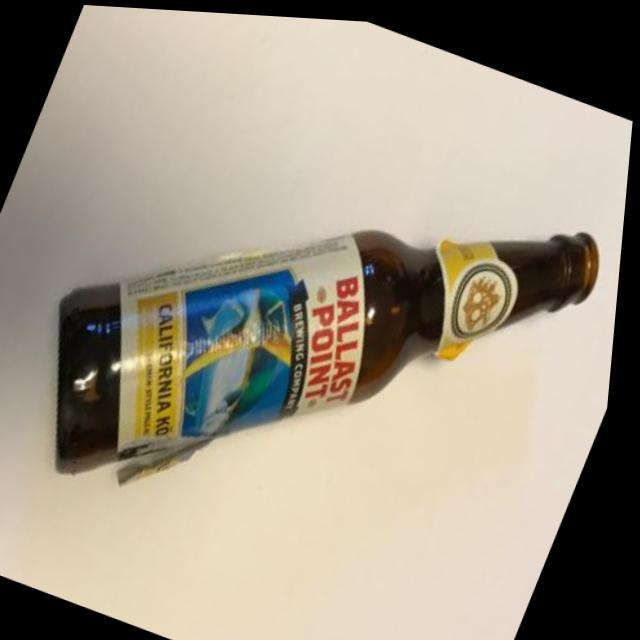glass: (0, 5, 640, 640)
